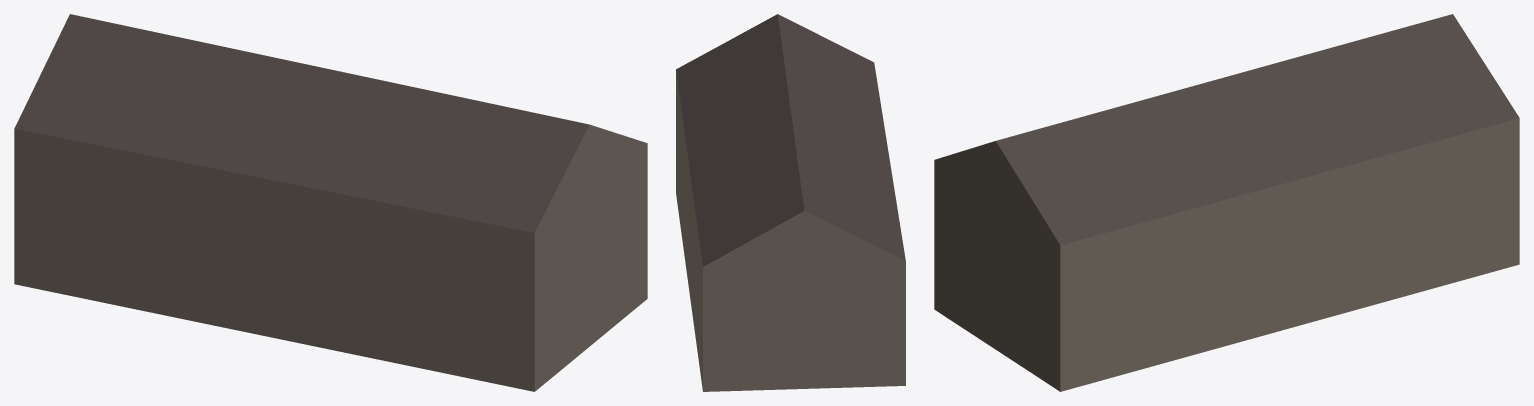
3 renders of one model, left to right at view 1: azimuth 30°, elevation 25°; view 2: azimuth 150°, elevation 25°; view 3: azimuth 270°, elevation 25°, orthographic. The views are drawn at different scales.
Visible parts, largest first — view 1: HP-w369237908; view 2: HP-w369237908; view 3: HP-w369237908.
Boxes of the visible parts, x1=… form: HP-w369237908: x1=14, y1=14, x2=647, y2=391; HP-w369237908: x1=676, y1=14, x2=905, y2=391; HP-w369237908: x1=934, y1=14, x2=1519, y2=391.
Bounding box in the file's own units: 27.8 × 12.83 × 32.62.
